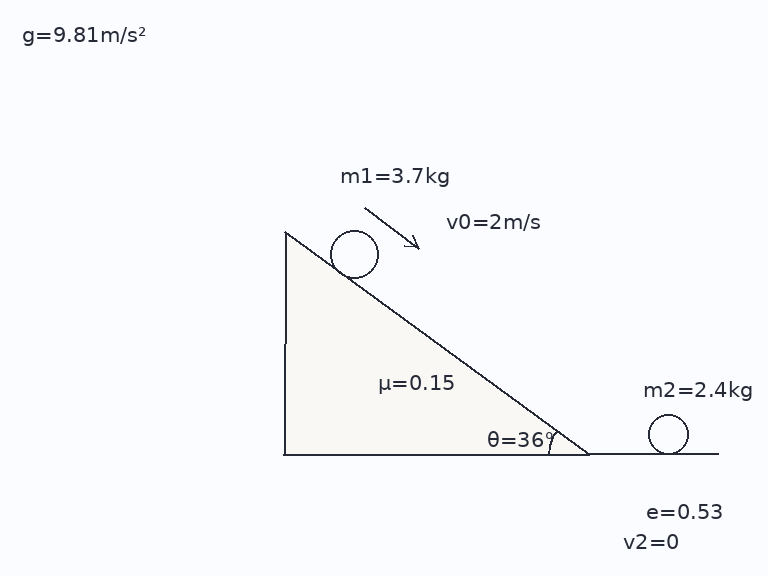ball: (328, 228, 380, 280), (646, 412, 690, 456)
ramp: (282, 230, 591, 456)
